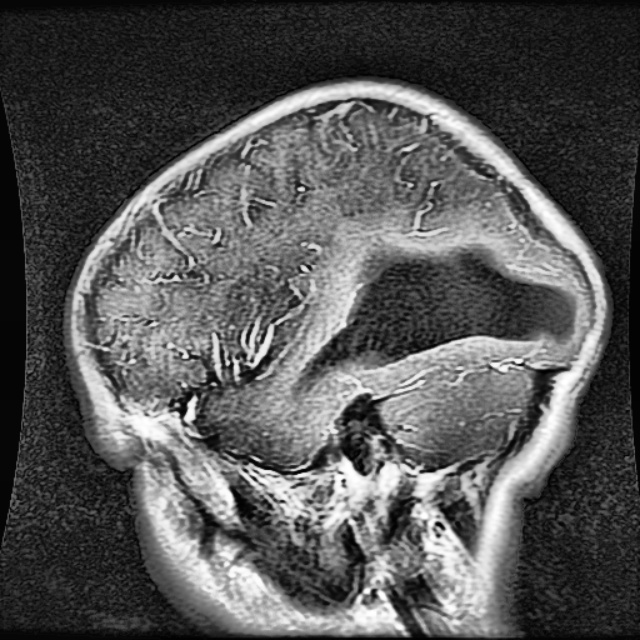Meningioma: (294, 239, 575, 395)
